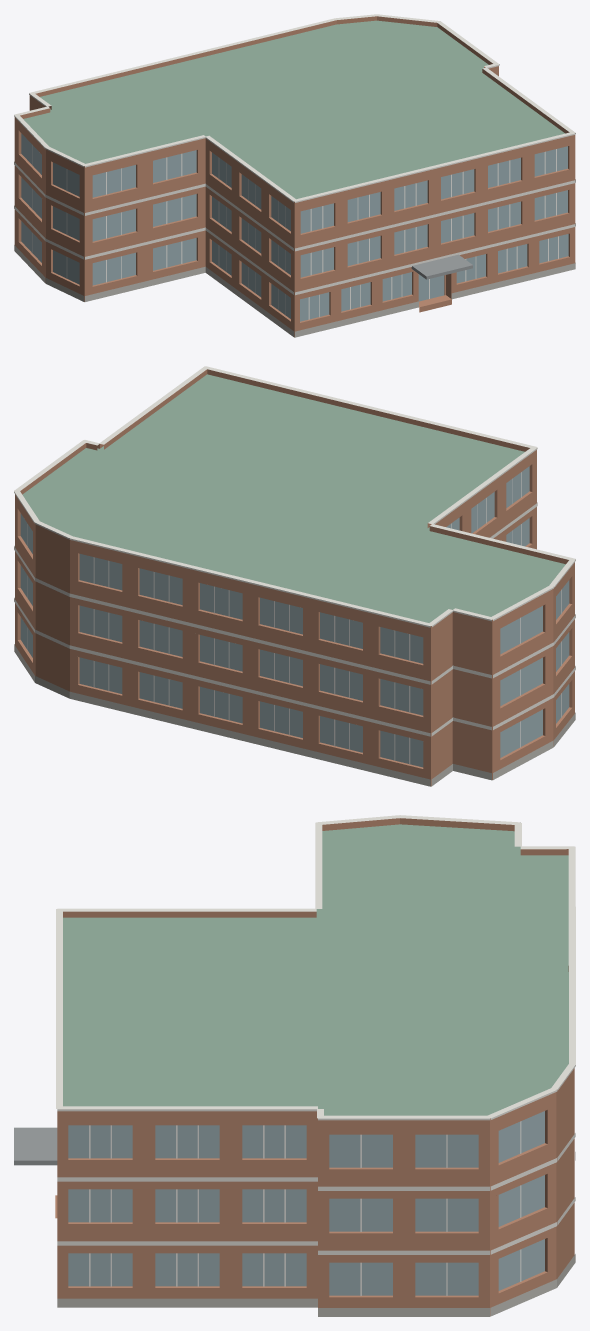
The picture shows the model from 3 angles, top to bottom: view 1: azimuth 30°, elevation 25°; view 2: azimuth 150°, elevation 25°; view 3: azimuth 270°, elevation 25°; orthographic projection. The views are drawn at different scales.
Parts seen in each view (by area): view 1: b472625484__roof, b472625484__wall, b472625484__glass, b472625484__trim, b472625484__parapet, b472625484__base, b472625484__frame, b472625484__canopy; view 2: b472625484__roof, b472625484__wall, b472625484__glass, b472625484__trim, b472625484__parapet, b472625484__base, b472625484__frame; view 3: b472625484__roof, b472625484__wall, b472625484__glass, b472625484__trim, b472625484__parapet, b472625484__base, b472625484__frame, b472625484__canopy.
Part boxes in pixels (box(x1,y1,x2,y2)): b472625484__roof: box(23, 20, 564, 337); b472625484__wall: box(14, 69, 575, 337); b472625484__glass: box(21, 133, 568, 321); b472625484__trim: box(14, 14, 575, 295); b472625484__parapet: box(14, 16, 575, 205); b472625484__base: box(14, 245, 575, 337); b472625484__frame: box(32, 145, 558, 319); b472625484__canopy: box(411, 254, 472, 279); b472625484__roof: box(22, 374, 565, 786); b472625484__wall: box(15, 452, 574, 786); b472625484__glass: box(20, 466, 569, 767); b472625484__trim: box(14, 366, 575, 736); b472625484__parapet: box(15, 369, 574, 630); b472625484__base: box(14, 644, 575, 786); b472625484__frame: box(27, 472, 561, 764); b472625484__roof: box(63, 824, 568, 1115); b472625484__wall: box(57, 1071, 574, 1315); b472625484__glass: box(68, 1111, 544, 1295); b472625484__trim: box(56, 815, 575, 1254); b472625484__parapet: box(57, 818, 574, 1124); b472625484__base: box(57, 1152, 575, 1316); b472625484__frame: box(89, 1121, 521, 1295); b472625484__canopy: box(14, 1127, 57, 1165).
Size of the model in its own units: 36.59 by 11.55 by 28.63.
